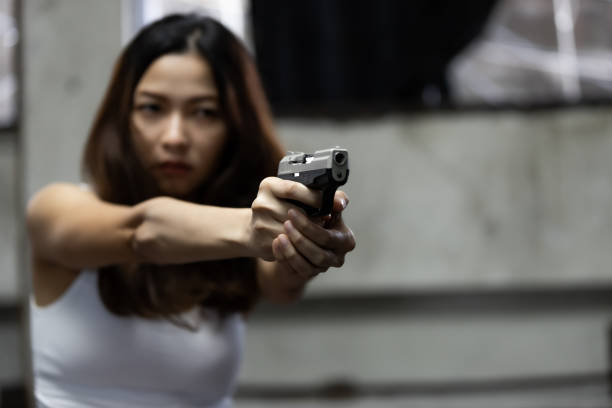gun: (277, 147, 352, 223)
